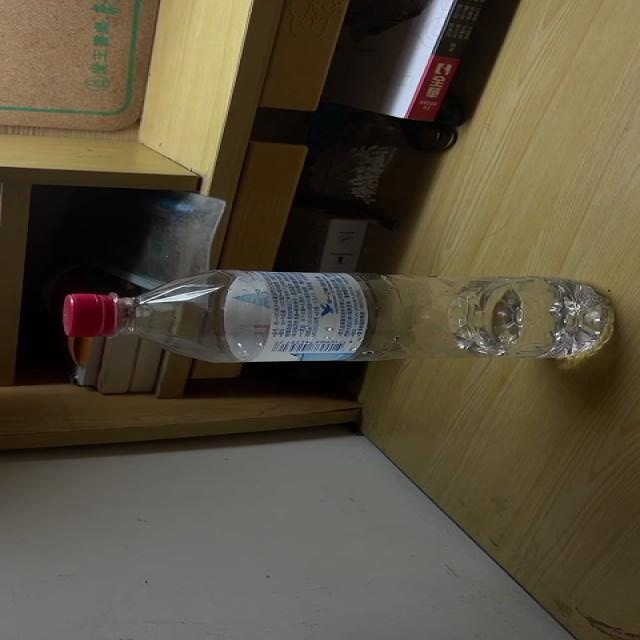Coca-Cola: (64, 274, 615, 361)
